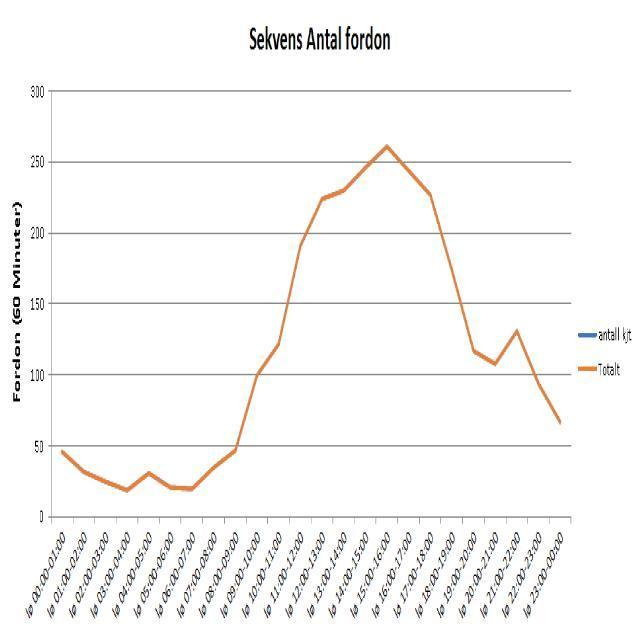axis: (46, 512, 579, 527), (45, 75, 57, 530)
line: (57, 139, 565, 495)
